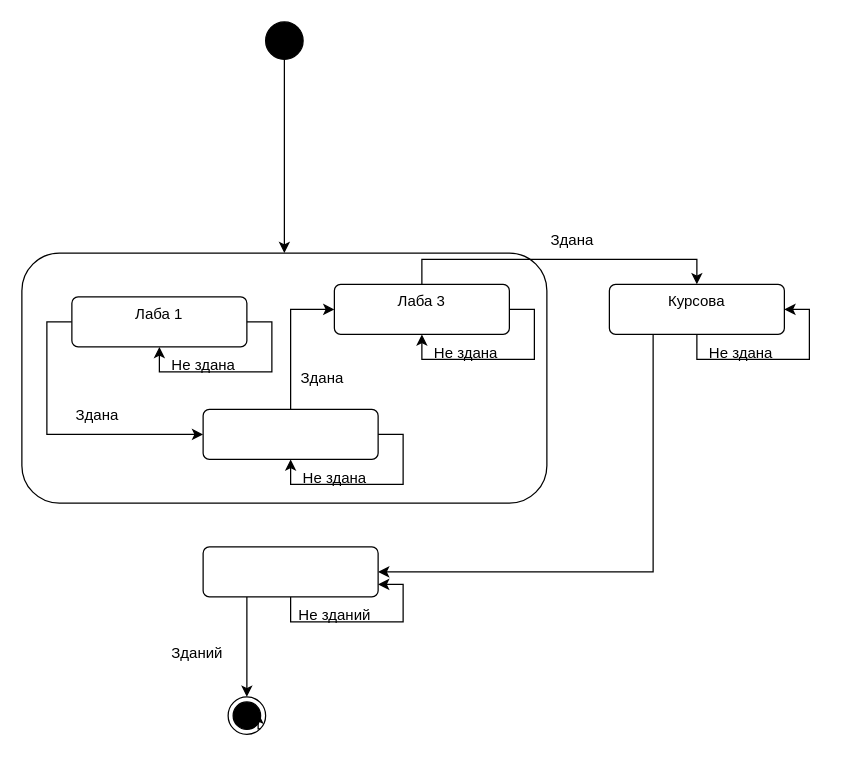
Some shapes in this 841 by 761 pixel diagram are drawn without their labels. The centre of each missing label's shape, as x and y in pixels:
Лаба 2: [290,433]
Іспит: [290,571]
